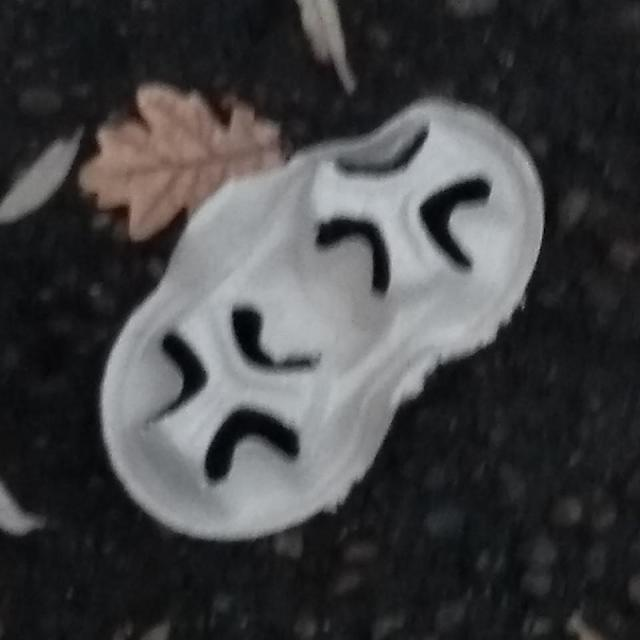Paper: (96, 88, 548, 545)
